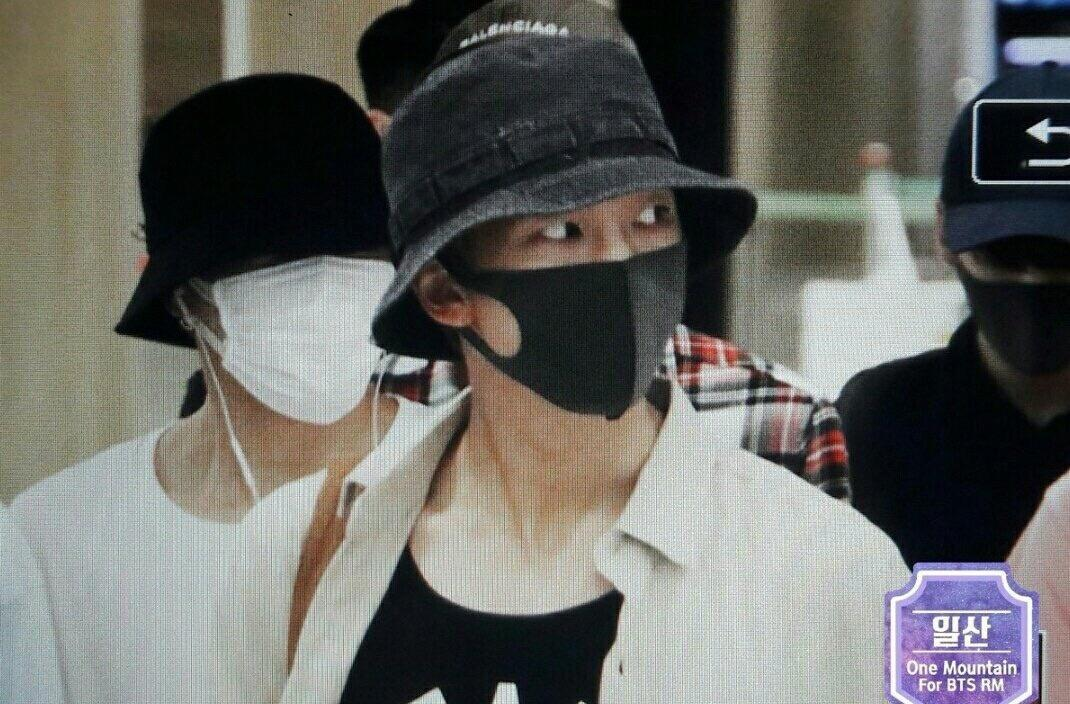OK: (475, 172, 721, 418), (185, 216, 400, 428), (957, 228, 1070, 381)
